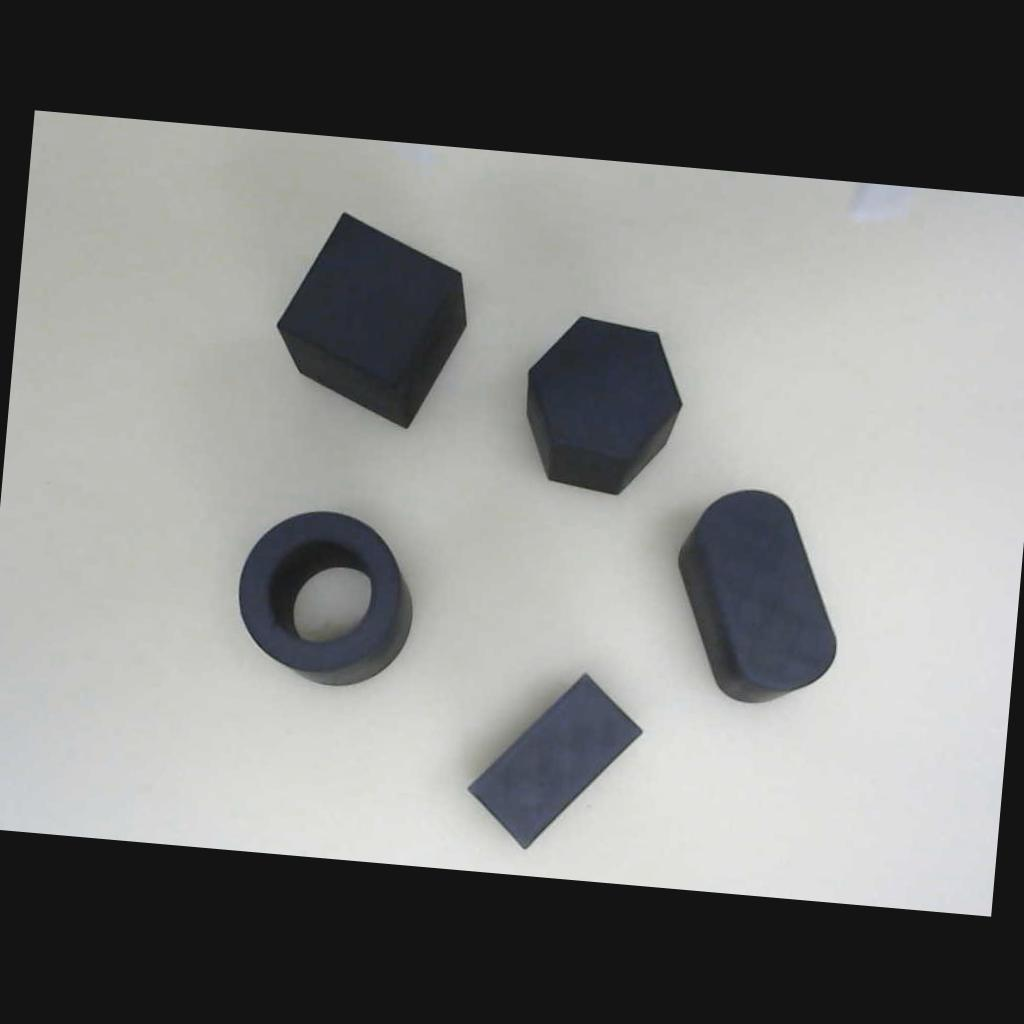hexagon: (494, 286, 708, 516)
oval: (645, 464, 857, 726)
rectangle: (451, 656, 659, 862)
ring: (207, 486, 451, 711)
square: (224, 176, 520, 464)
